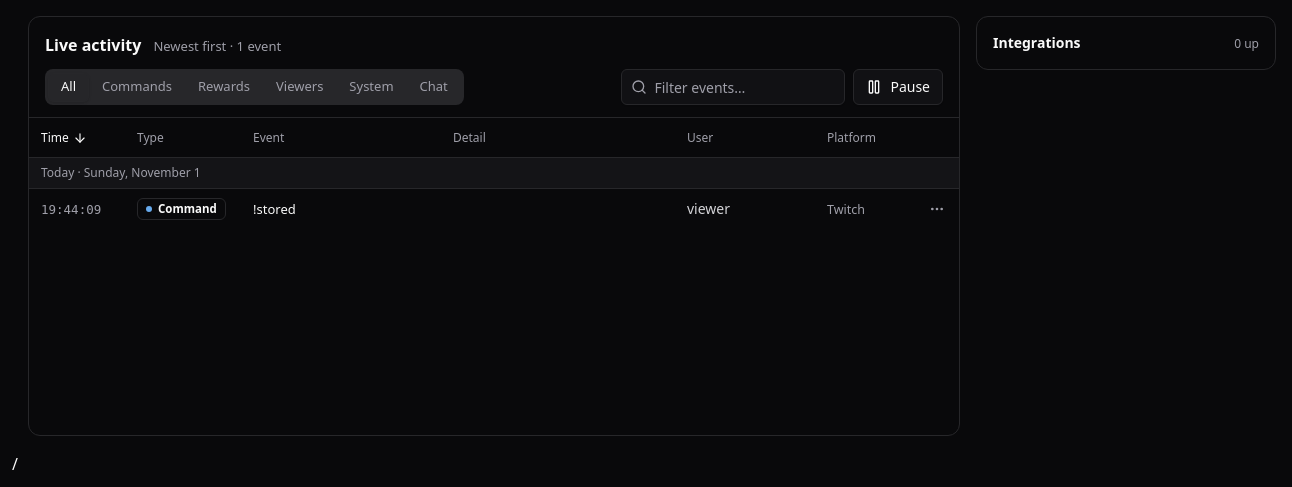
Scenario: Live activity › keeps what arrived live when a reconnect sends the stored log again
This screenshot has width=1292, height=487.
Click the tab "Chat": (434, 87) [406,72,461,102]
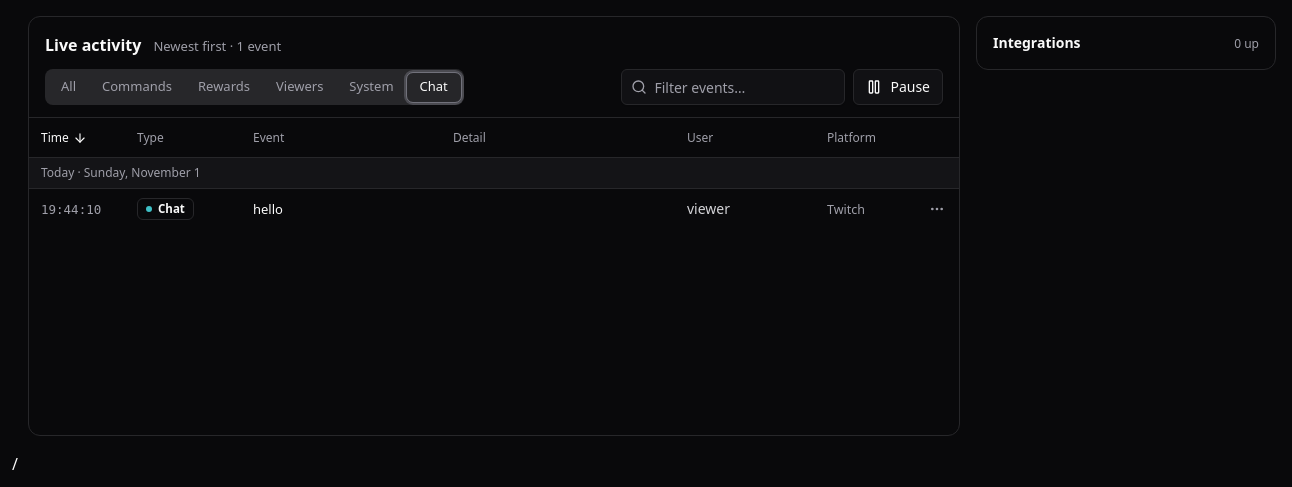
Expected: the text "hello" is shown, [253,200,283,218]
